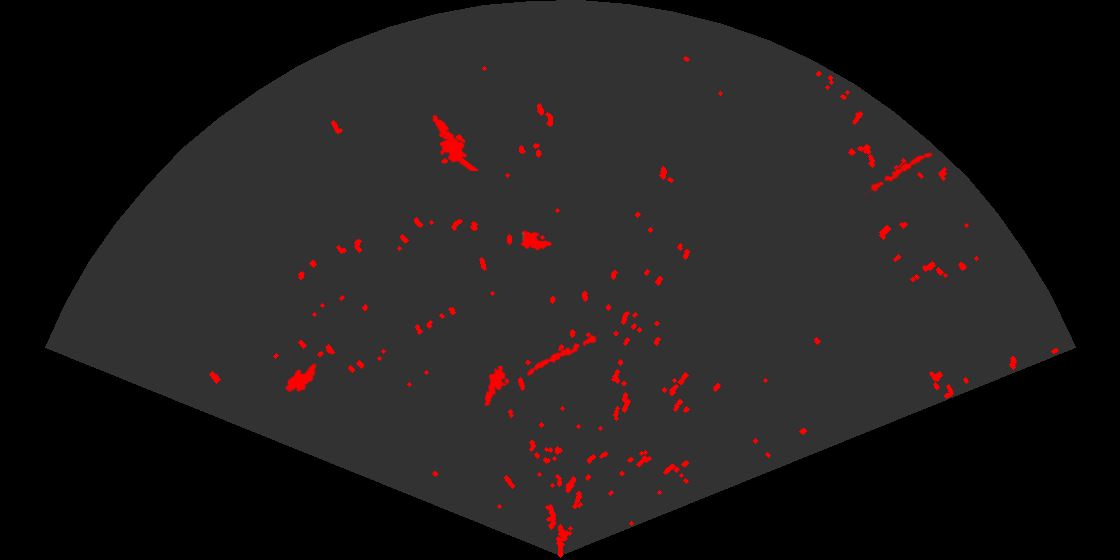AUV: (284, 362, 318, 394), (519, 229, 554, 252)
chain: (525, 332, 601, 377), (862, 151, 935, 197)
frogman: (430, 113, 478, 171), (483, 366, 508, 406)
